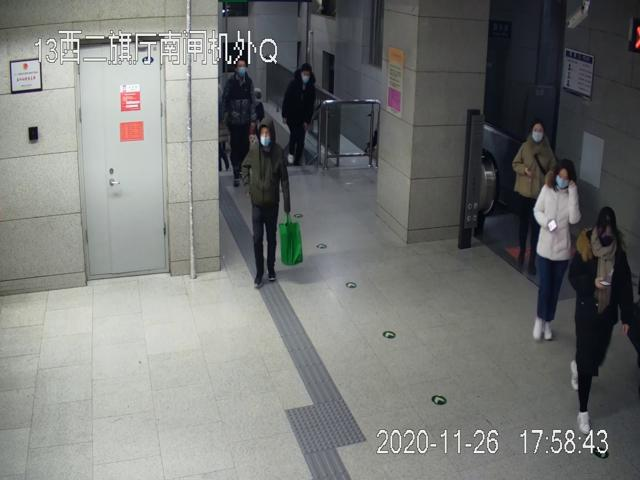person: (571, 207, 633, 435), (242, 118, 293, 288), (533, 158, 578, 341), (513, 121, 556, 274), (223, 58, 258, 185)
